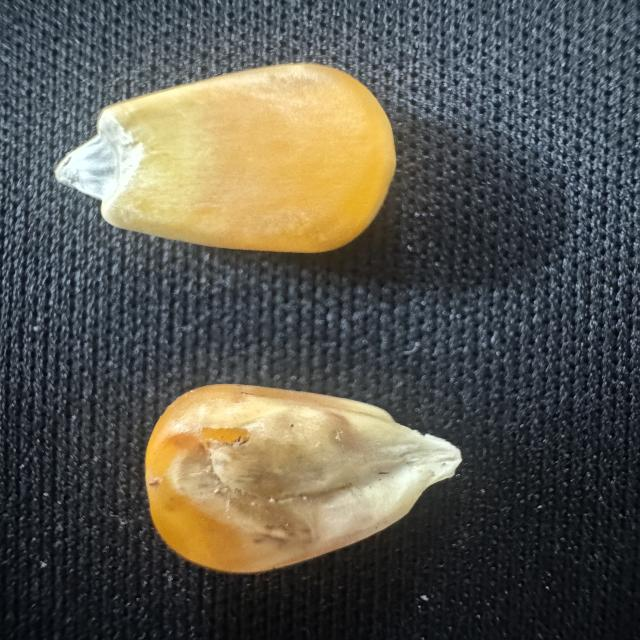Bad-Seed: (121, 369, 475, 578)
Good-Seed: (41, 46, 402, 264)
